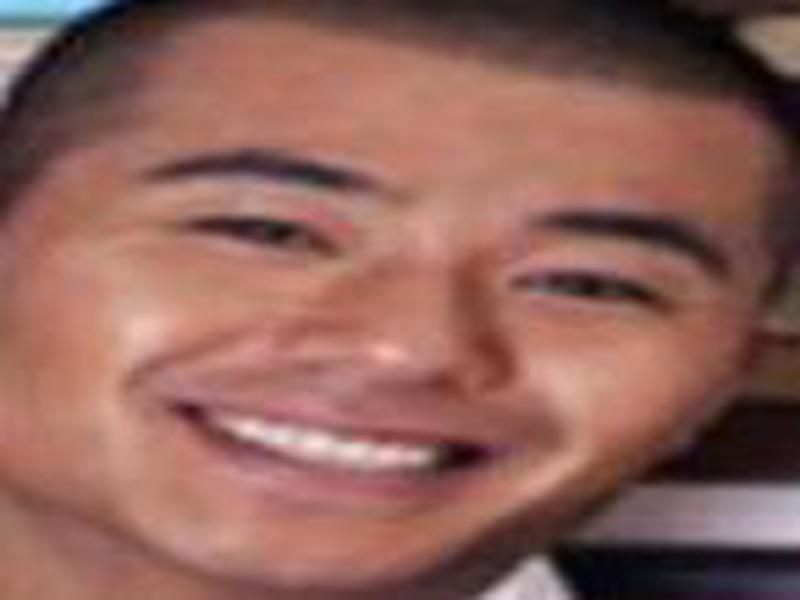without_mask: (44, 87, 766, 600)
